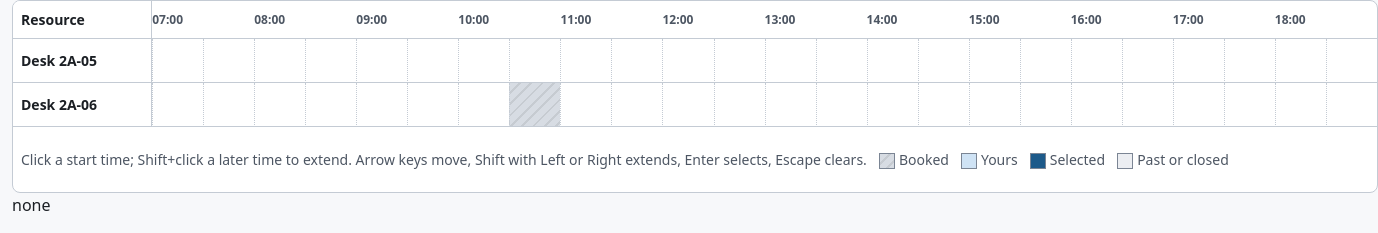
Test: SlotGrid first selection is the shortest valid booking (UX-03) › a click selects minSlots cells when they are free, else one cell, and never past closing
The image size is (1378, 233).
What coordinates should you click on to do the following:
click the cell named "Desk 2A-05, 10:00 to 10:30, available"
I would click on:
 (484, 61)
Its box is [458,39,509,83].
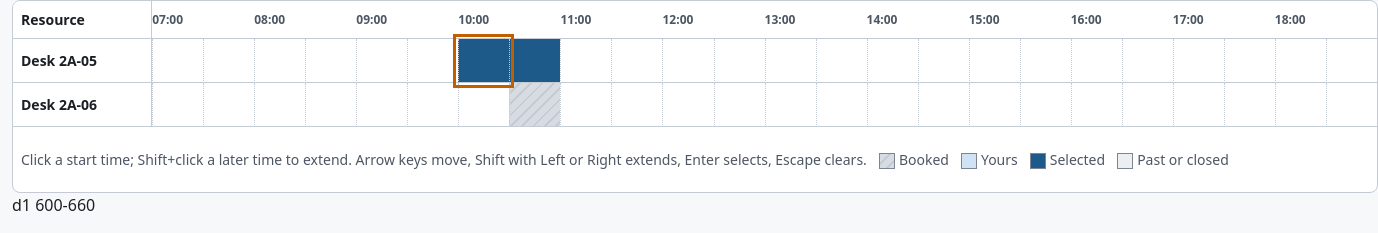
Expected: the text with test id "sel" reads "d1 600-660", [12,194,95,216]
What coordinates should you click on to do the following:
click the cell named "Desk 2A-06, 10:00 to 10:30, available"
I would click on:
 (484, 105)
Its box is [458,83,509,127].
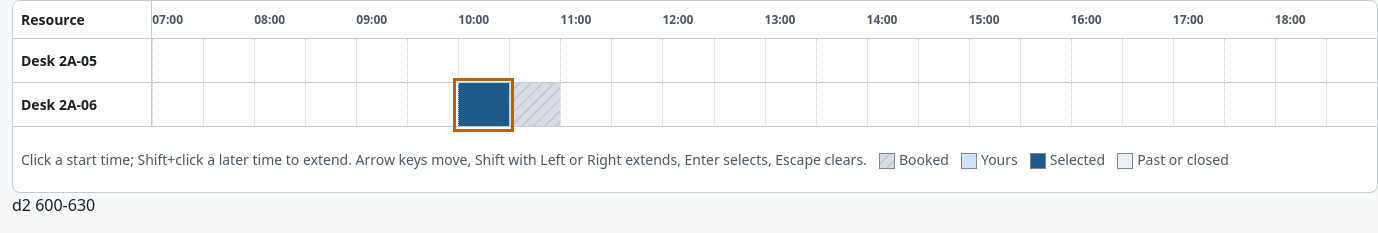
Expected: the text with test id "sel" reads "d2 600-630", [12,194,95,216]
What coordinates should you click on to do the following:
click the cell named "Desk 2A-05, 18:30 to 19:00, available"
I would click on:
 (1351, 61)
Its box is [1326,39,1377,83].
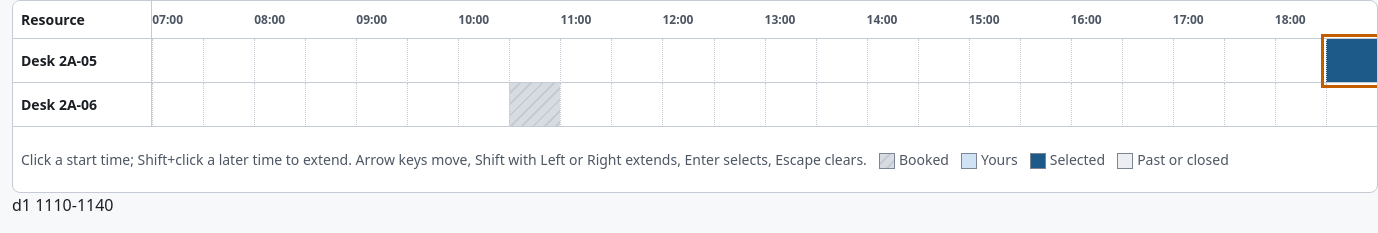
Expected: the text with test id "sel" reads "d1 1110-1140", [12,194,114,216]
